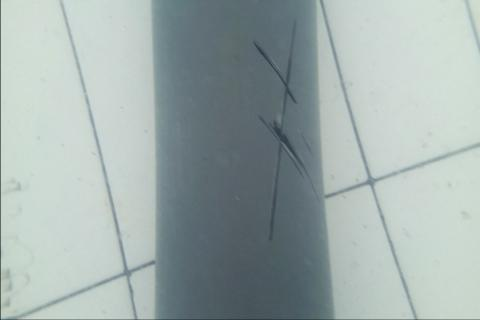keretakan: (253, 19, 318, 245)
